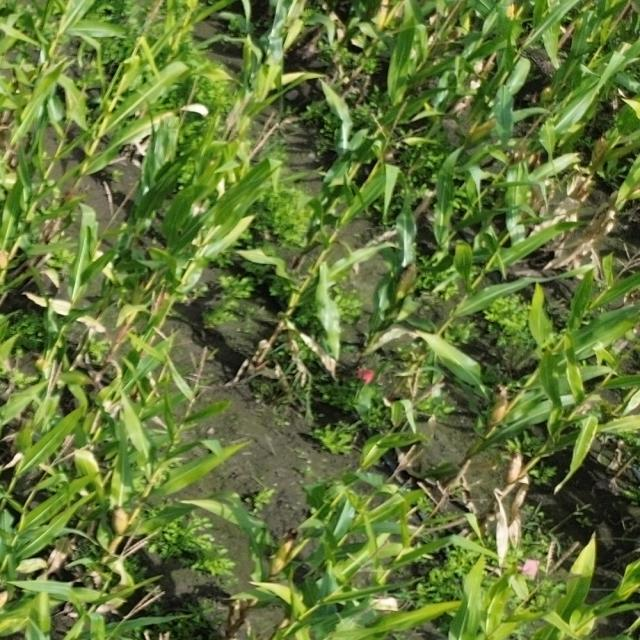northern-leaf-blight: (121, 276, 189, 354)
